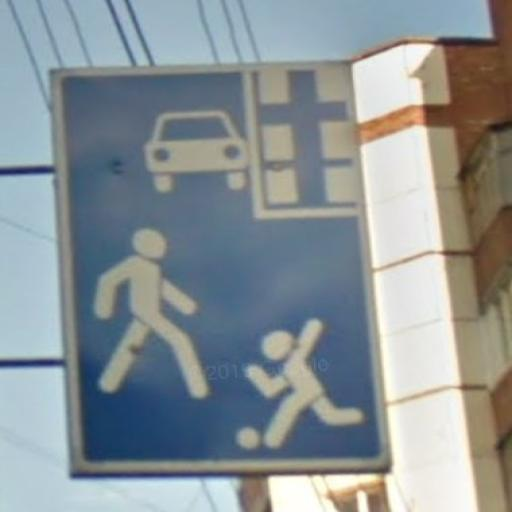traffic_sign: (50, 57, 403, 480)
